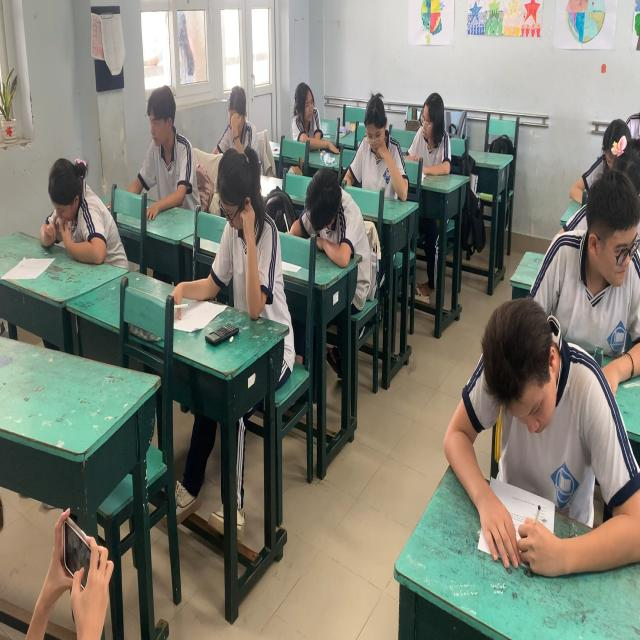cheating: (556, 201, 640, 388), (286, 80, 346, 160)
not_cheating: (448, 312, 626, 578), (35, 149, 131, 271), (206, 163, 265, 315), (142, 80, 202, 204), (290, 160, 347, 267), (352, 91, 404, 197), (409, 91, 453, 181), (218, 87, 255, 149)
